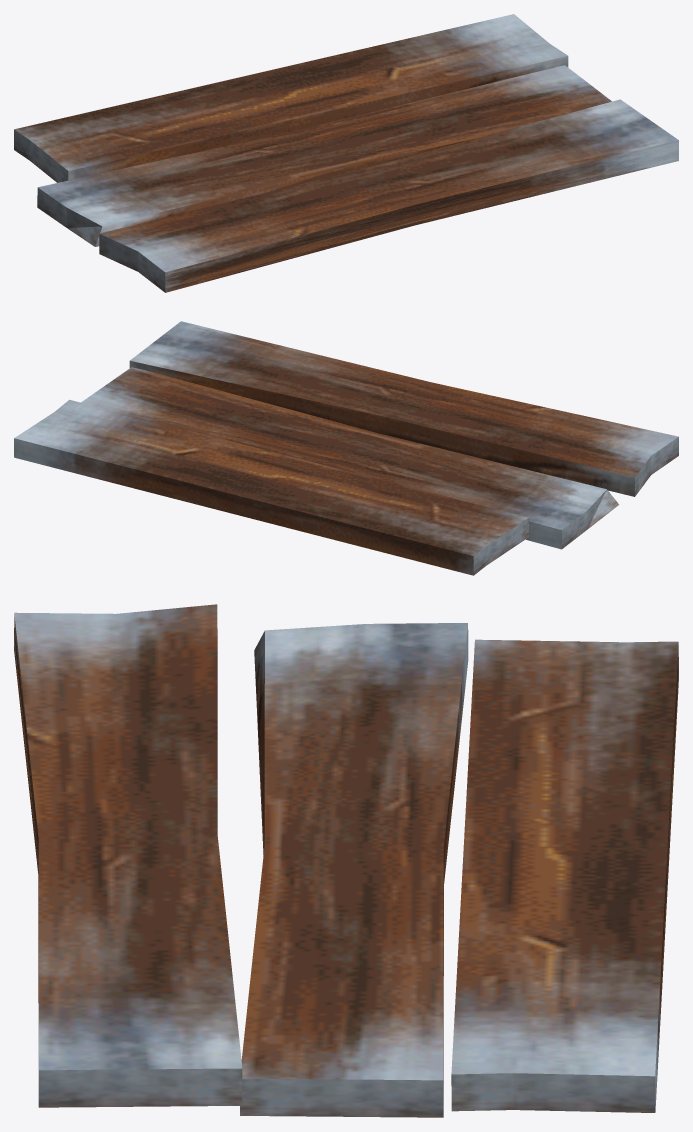
Rendered from Ice_wood04.FBX.
The picture shows the model from 3 angles, top to bottom: view 1: azimuth 30°, elevation 25°; view 2: azimuth 150°, elevation 25°; view 3: azimuth 270°, elevation 25°; orthographic projection. The views are drawn at different scales.
Parts seen in each view (by area): view 1: Object15626; view 2: Object15626; view 3: Object15626.
Boxes of the visible parts, x1,y1,x2,y2 form: Object15626: [14, 14, 678, 292]; Object15626: [14, 321, 678, 575]; Object15626: [14, 604, 678, 1117].
Bounding box in the file's own units: 398 × 19.29 × 237.
